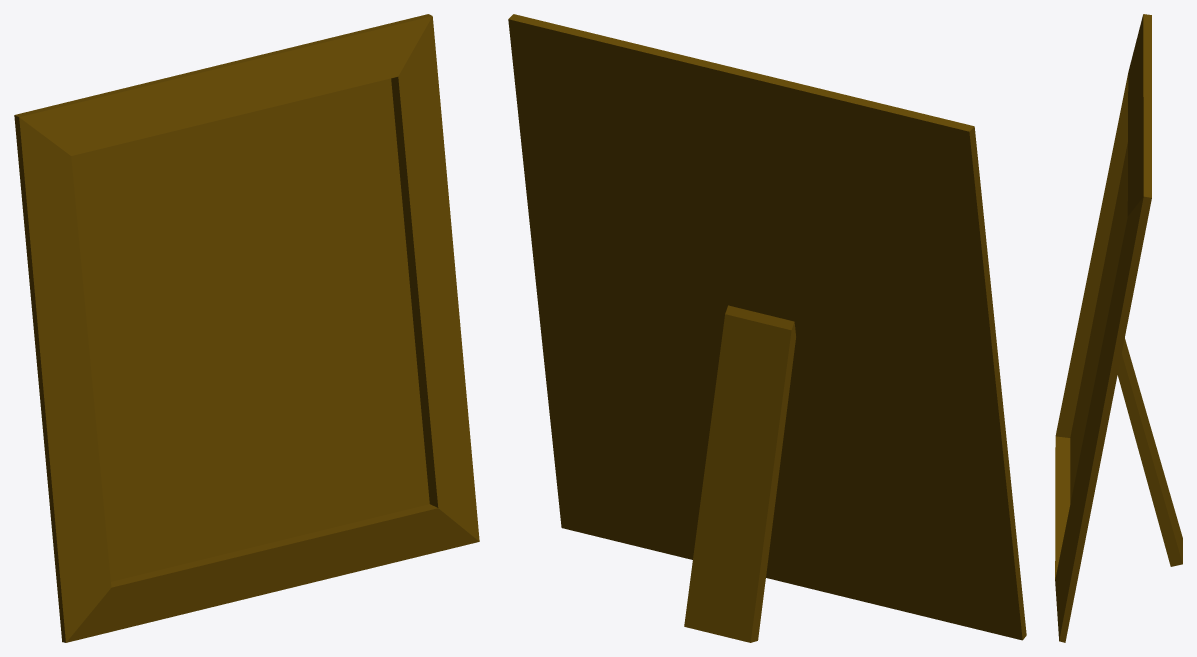
Rendered from photo frame.fbx.
3 views of the same model, side by side, from view 1: azimuth 30°, elevation 25°; view 2: azimuth 150°, elevation 25°; view 3: azimuth 270°, elevation 25° (orthographic). The views are drawn at different scales.
Visible parts, largest first — view 1: Cube; view 2: Cube; view 3: Cube.
Boxes of the visible parts, x1,y1,x2,y2 form: Cube: (14,14,479,642); Cube: (508,14,1026,642); Cube: (1055,14,1182,642).
Size of the model in its own units: 69.4 by 79.24 by 20.5.
